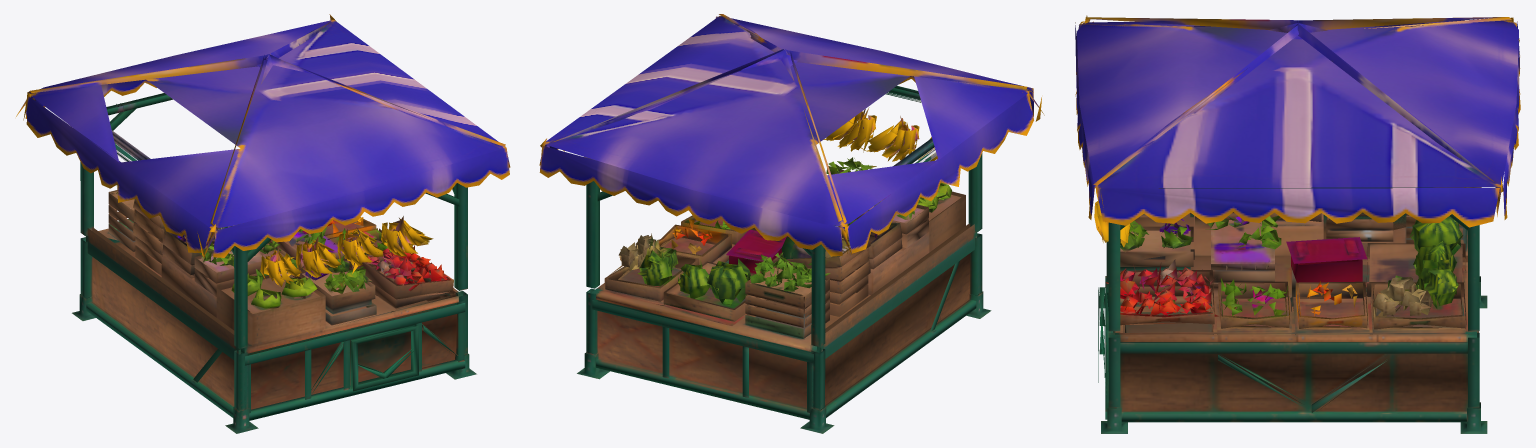
Rendered from tripo_convert_fdc8f00b-7dae-4aff-9747-996a0e3c2253_lo.glb.
3 views of the same model, side by side, from view 1: azimuth 30°, elevation 25°; view 2: azimuth 150°, elevation 25°; view 3: azimuth 270°, elevation 25° (orthographic). The views are drawn at different scales.
Parts seen in each view (by area): view 1: tripo_node_fdc8f00b-7dae-4aff-9747-996a0e3c2253; view 2: tripo_node_fdc8f00b-7dae-4aff-9747-996a0e3c2253; view 3: tripo_node_fdc8f00b-7dae-4aff-9747-996a0e3c2253.
Boxes of the visible parts, x1,y1,x2,y2 form: tripo_node_fdc8f00b-7dae-4aff-9747-996a0e3c2253: (16, 14, 510, 433); tripo_node_fdc8f00b-7dae-4aff-9747-996a0e3c2253: (539, 14, 1044, 433); tripo_node_fdc8f00b-7dae-4aff-9747-996a0e3c2253: (1075, 15, 1520, 433).
Bounding box in the file's own units: 0.9812 × 0.8424 × 1.
1 material, 1 textured.
